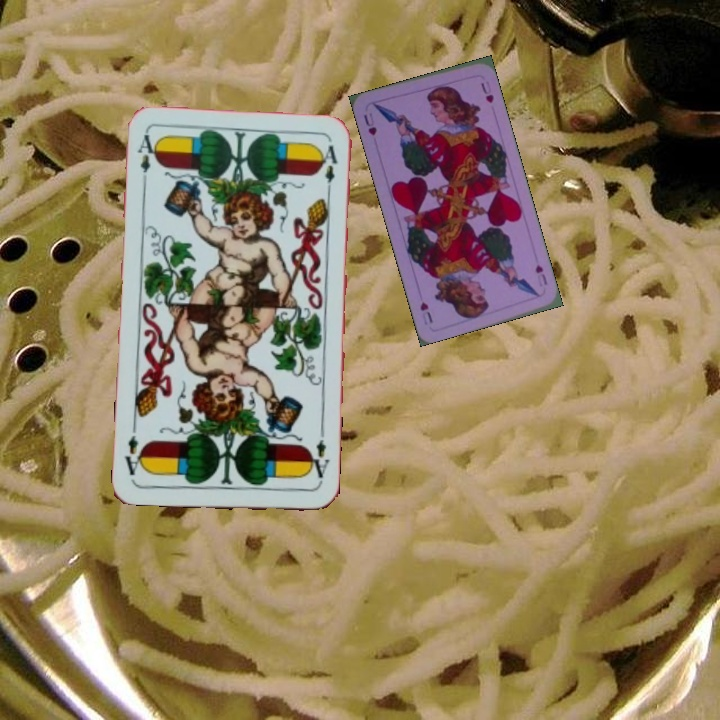EA: (133, 131, 160, 189), (304, 435, 332, 487)
HU: (359, 109, 379, 138), (531, 261, 550, 289)
